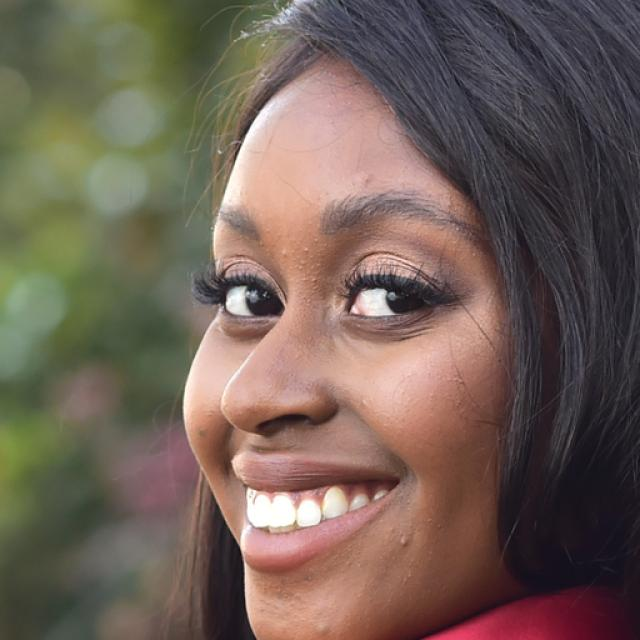Acne: (385, 531, 416, 562), (352, 387, 375, 423), (348, 168, 384, 188)
